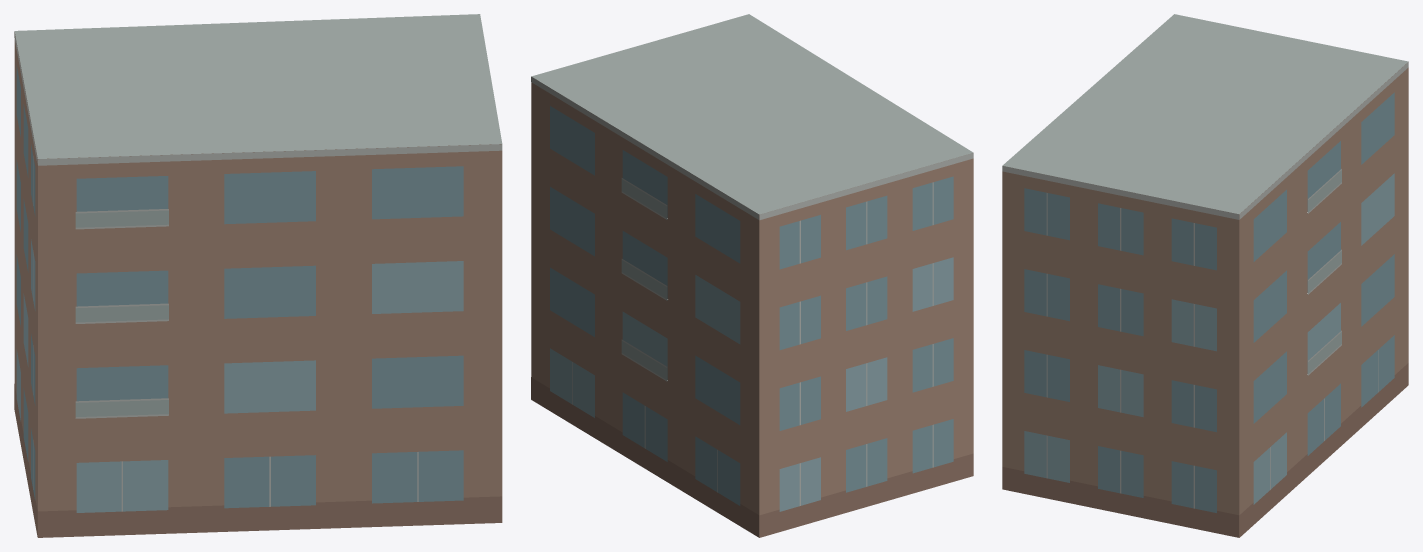
Rendered from survey-upis-32634255.glb.
The picture shows the model from 3 angles, left to right: view 1: azimuth 30°, elevation 25°; view 2: azimuth 150°, elevation 25°; view 3: azimuth 270°, elevation 25°; orthographic projection. The views are drawn at different scales.
Visible parts, largest first — view 1: survey-upis-32634255.tmp; view 2: survey-upis-32634255.tmp; view 3: survey-upis-32634255.tmp.
Part boxes in pixels (left/top/right/bottom): survey-upis-32634255.tmp: left=14, top=14, right=502, bottom=537; survey-upis-32634255.tmp: left=531, top=14, right=973, bottom=537; survey-upis-32634255.tmp: left=1002, top=14, right=1408, bottom=537.
Size of the model in its own units: 18.32 by 13.8 by 15.72.
